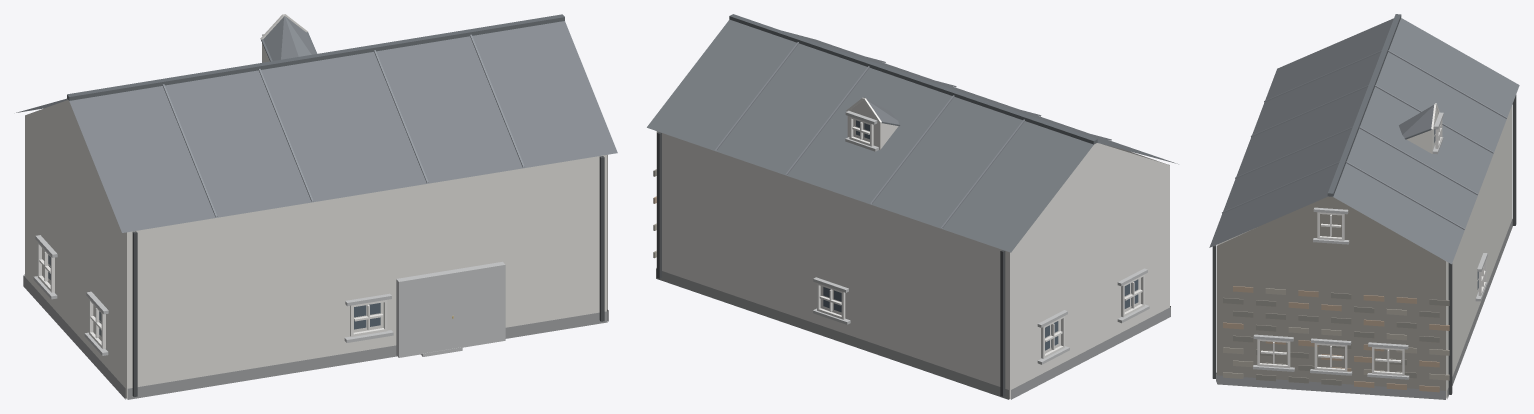
3 views of the same model, side by side, from view 1: azimuth 30°, elevation 25°; view 2: azimuth 150°, elevation 25°; view 3: azimuth 270°, elevation 25° (orthographic). The views are drawn at different scales.
Visible parts, largest first — view 1: harl, slate, stone_band, plinth, slate_dk, frame, pipe, slate_lt; view 2: harl, slate, plinth, slate_dk, frame, slate_lt, pipe, stone_band; view 3: slate, rubble, harl, rubble_dk, plinth, frame, slate_lt, rubble_rust, pipe, stone_band, slate_dk, rubble_lt.
Boxes of the visible parts, x1,y1,x2,y2 form: harl: [25, 43, 606, 399]; slate: [16, 16, 617, 232]; stone_band: [33, 34, 505, 357]; plinth: [23, 274, 608, 399]; slate_dk: [67, 14, 564, 100]; frame: [37, 14, 387, 349]; pipe: [132, 156, 604, 396]; slate_lt: [162, 34, 524, 217]; harl: [657, 100, 1169, 399]; slate: [647, 19, 1178, 252]; plinth: [656, 268, 1170, 399]; slate_dk: [729, 14, 1097, 144]; frame: [817, 97, 1144, 358]; slate_lt: [715, 42, 1111, 228]; pipe: [657, 132, 1168, 396]; stone_band: [813, 110, 1149, 364]; slate: [1209, 18, 1519, 264]; rubble: [1217, 196, 1445, 390]; harl: [1217, 106, 1511, 398]; rubble_dk: [1223, 292, 1449, 385]; plinth: [1216, 219, 1512, 399]; frame: [1257, 103, 1486, 375]; slate_lt: [1222, 50, 1506, 229]; rubble_rust: [1223, 286, 1449, 392]; pipe: [1212, 95, 1516, 394]; stone_band: [1253, 112, 1487, 379]; slate_dk: [1327, 14, 1432, 196]; rubble_lt: [1223, 288, 1449, 380].
Size of the model in its own units: 16.24 by 7.99 by 10.88.
